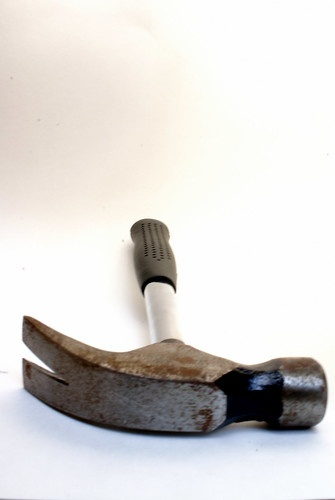hammer: (19, 218, 328, 437)
